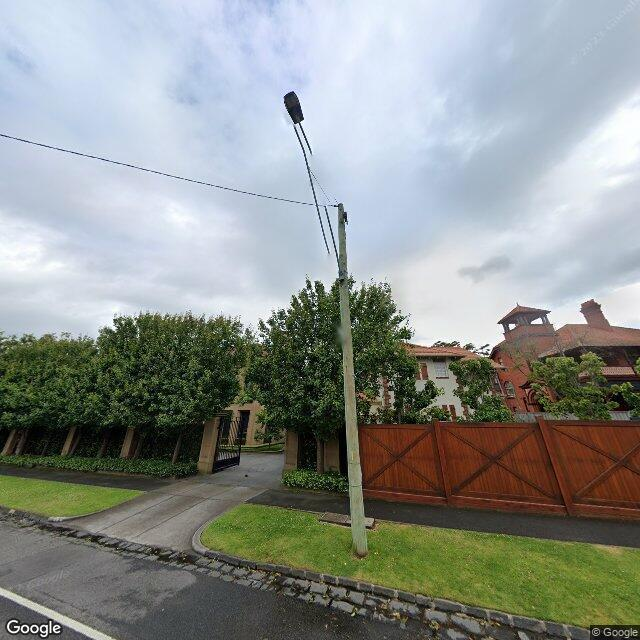streetlight: (284, 89, 345, 284)
timber-pole: (337, 203, 366, 558)
